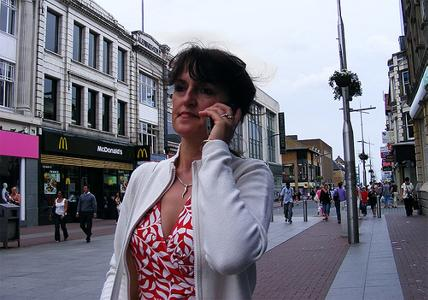person: (99, 45, 279, 299)
